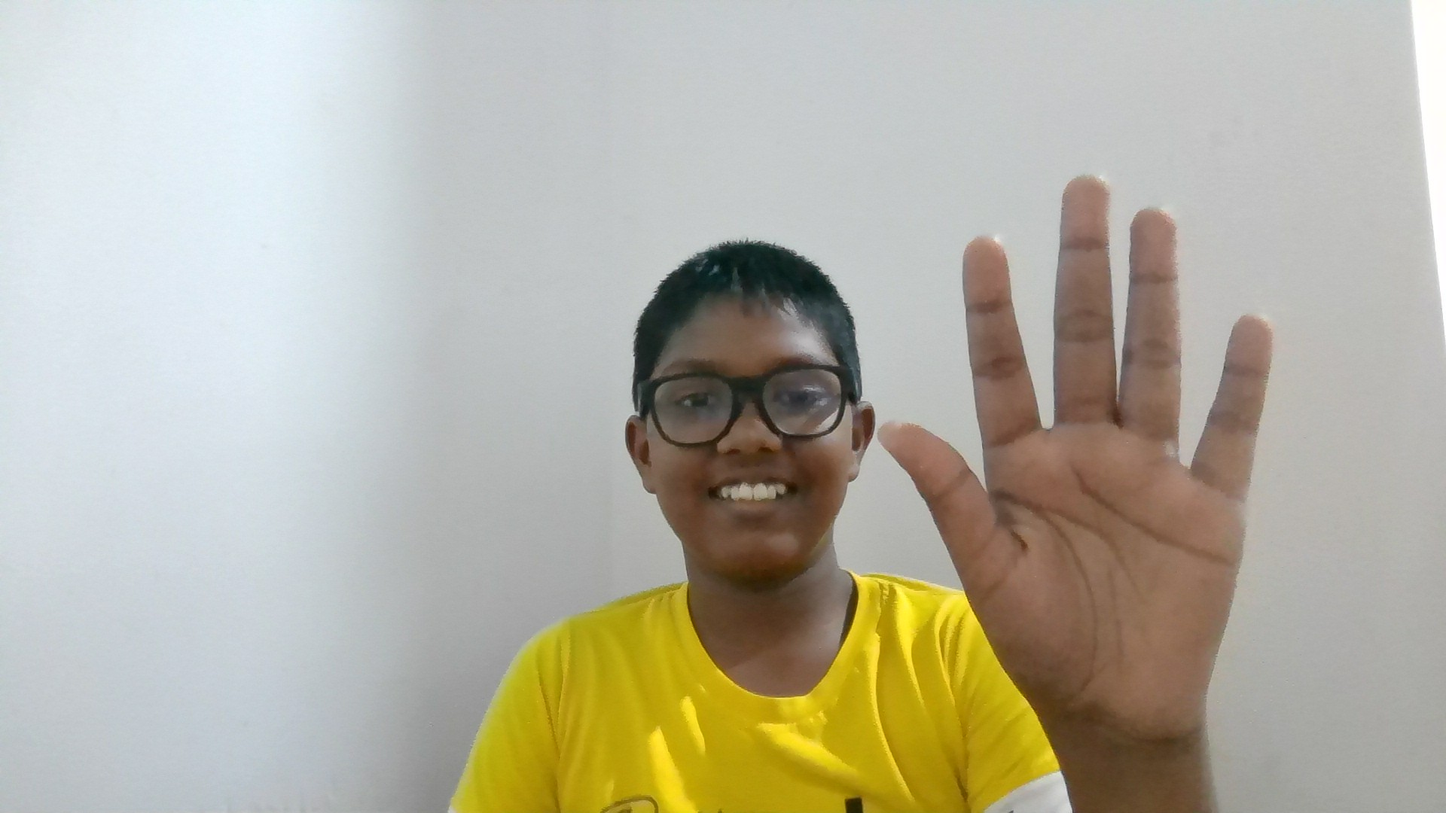Hello: (864, 129, 1264, 772)
